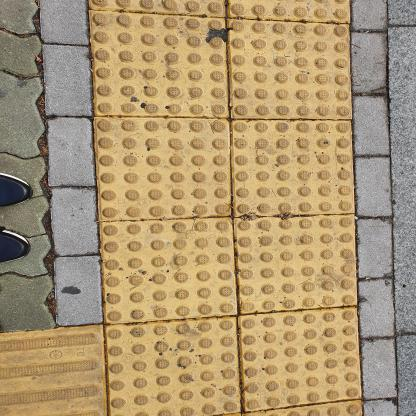podotacti: (79, 0, 377, 415), (0, 302, 369, 416)
